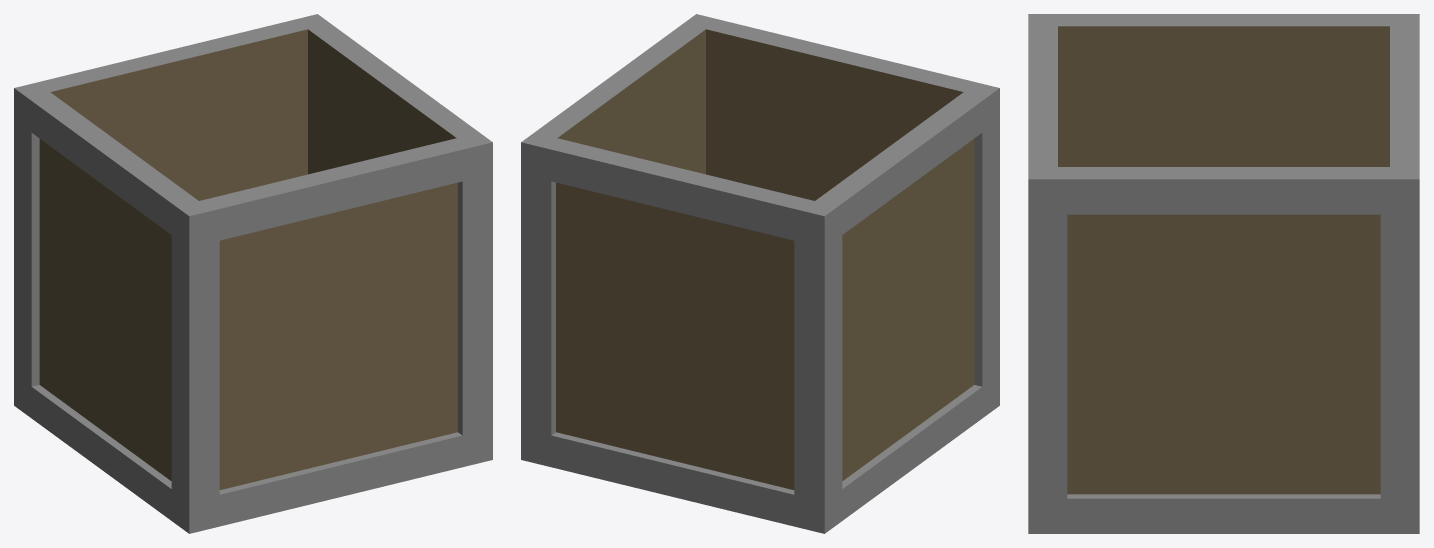
Rendered from Delivery Box.fbx.
3 views of the same model, side by side, from view 1: azimuth 30°, elevation 25°; view 2: azimuth 150°, elevation 25°; view 3: azimuth 270°, elevation 25° (orthographic). The views are drawn at different scales.
Parts seen in each view (by area): view 1: Cube; view 2: Cube; view 3: Cube.
Part boxes in pixels (x1,y1,x2,y2): Cube: [14, 14, 492, 533]; Cube: [521, 14, 999, 533]; Cube: [1028, 14, 1419, 533].
Bounding box in the file's own units: 200 × 200 × 200.
